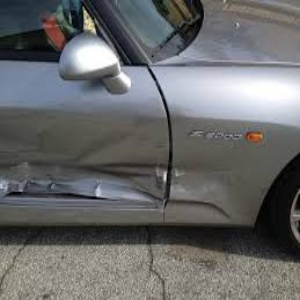door: (3, 158, 159, 227)
